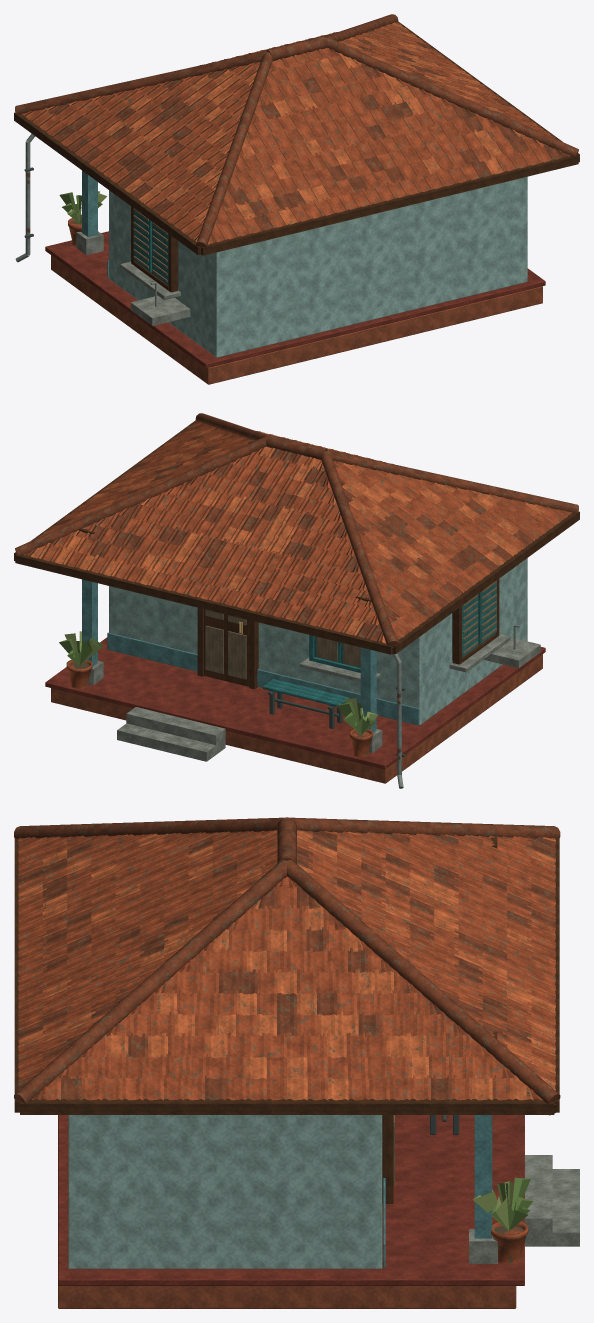
File: BLD_Cottage_Hipped_01.gltf
3 renders of one model, top to bottom at view 1: azimuth 30°, elevation 25°; view 2: azimuth 150°, elevation 25°; view 3: azimuth 270°, elevation 25°, orthographic. The views are drawn at different scales.
Visible parts, largest first — view 1: TF3_BLD_Cottage_Hipped_01; view 2: TF3_BLD_Cottage_Hipped_01; view 3: TF3_BLD_Cottage_Hipped_01.
Boxes of the visible parts, x1,y1,x2,y2 form: TF3_BLD_Cottage_Hipped_01: (14, 14, 579, 384); TF3_BLD_Cottage_Hipped_01: (14, 413, 579, 788); TF3_BLD_Cottage_Hipped_01: (14, 817, 579, 1308).
Size of the model in its own units: 7.31 by 4.41 by 6.4.
Materials: 18 (12 with a texture image).
